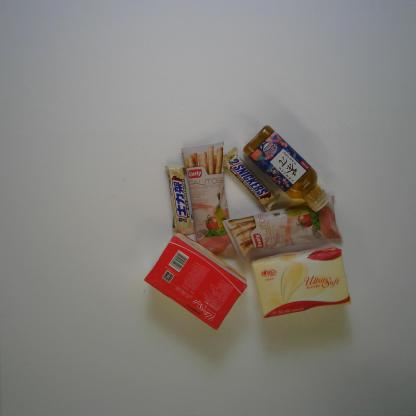Chocolate: (221, 145, 282, 214), (164, 162, 197, 238)
Dessert: (220, 192, 343, 263), (180, 140, 232, 242)
Drink: (241, 124, 333, 214)
Tissue: (142, 231, 249, 332), (250, 242, 352, 318)
